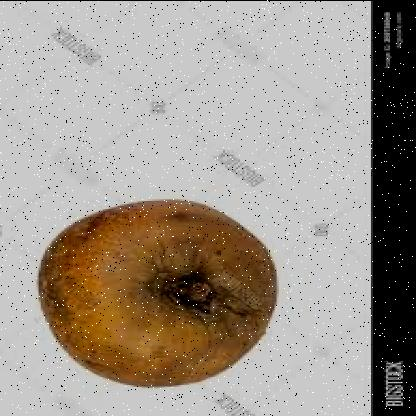damaged_apple: (34, 202, 278, 388)
